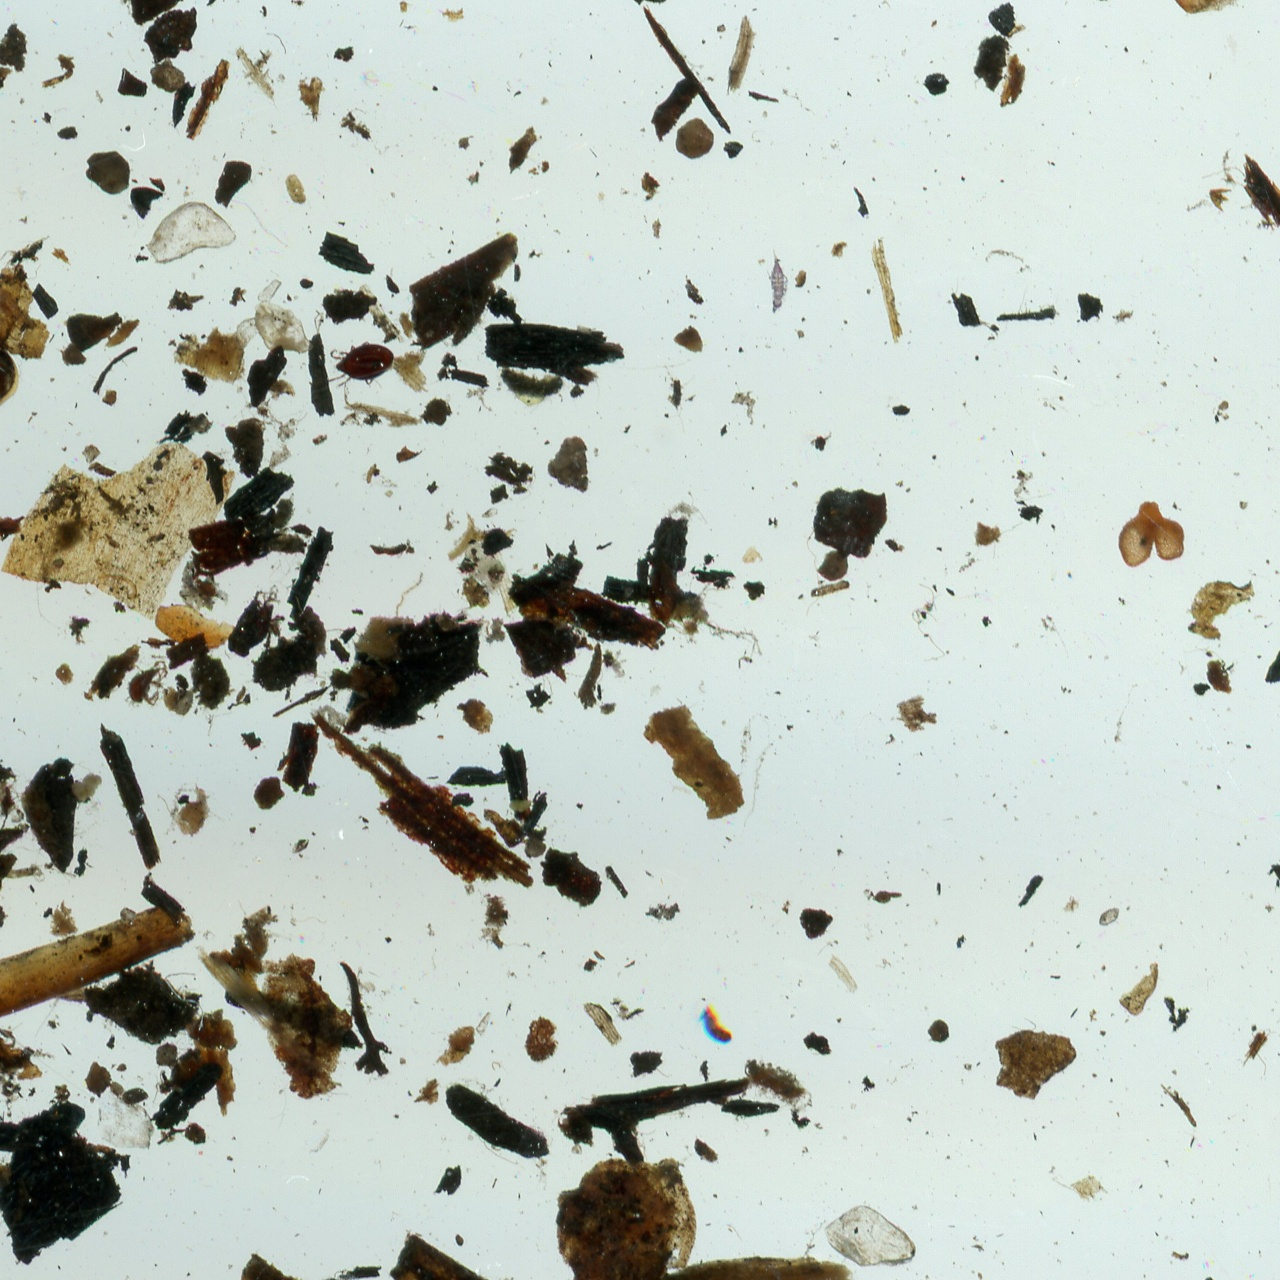arthropod: (328, 341, 395, 389), (123, 658, 170, 712), (769, 248, 789, 313)
